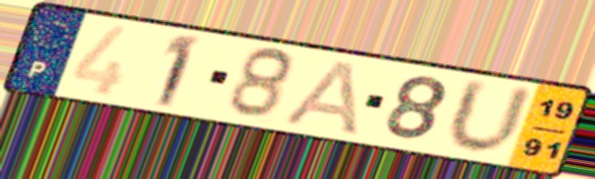1: (158, 33, 204, 110)
4: (67, 23, 128, 100)
8: (223, 46, 298, 122), (382, 74, 450, 143)
A: (279, 57, 361, 138)
U: (442, 75, 538, 158)
